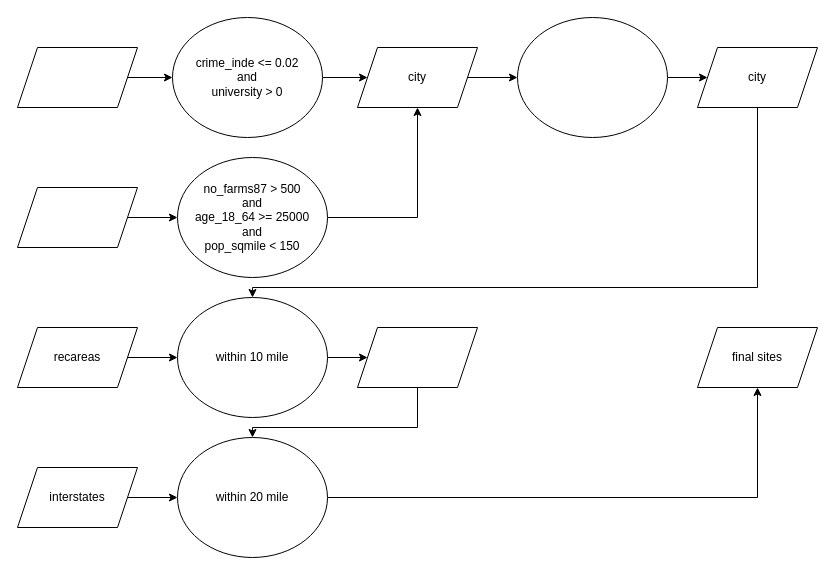
Image size: 835x575. Some labels were removed from this diagram. Each missing label, with the centre of its shape:
cities: (x=77, y=77)
city-recareas: (x=417, y=357)
counties: (x=77, y=217)
within: (x=592, y=77)
